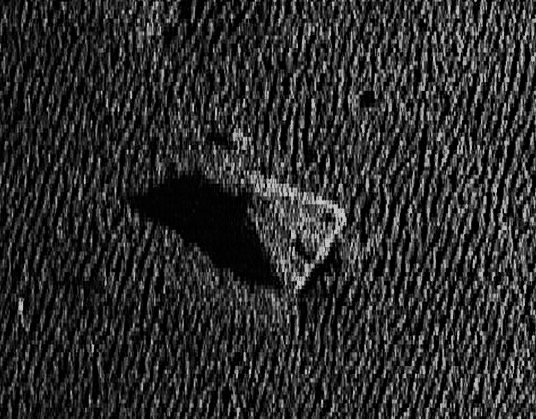mine: (122, 161, 347, 298)
